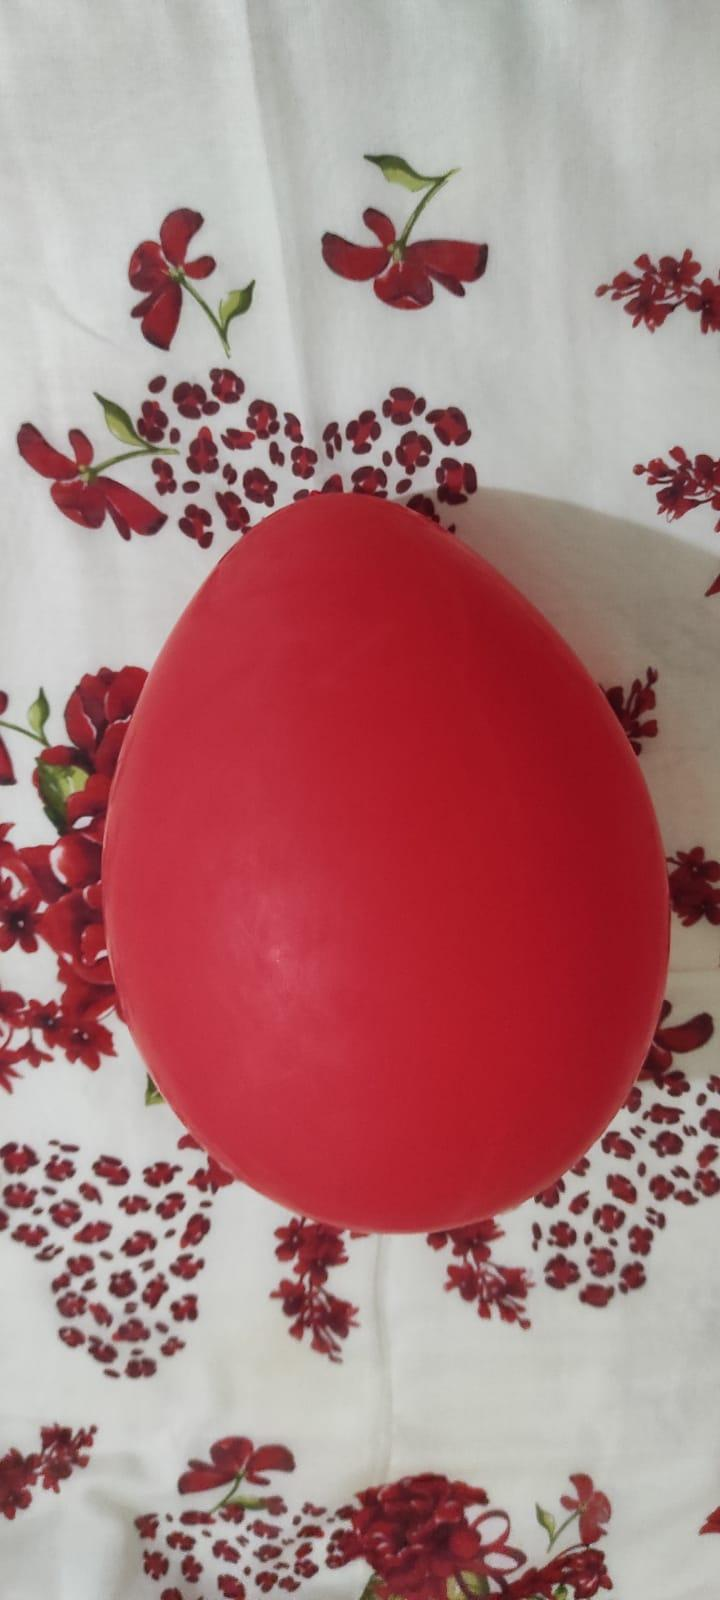red: (101, 481, 677, 1235)
